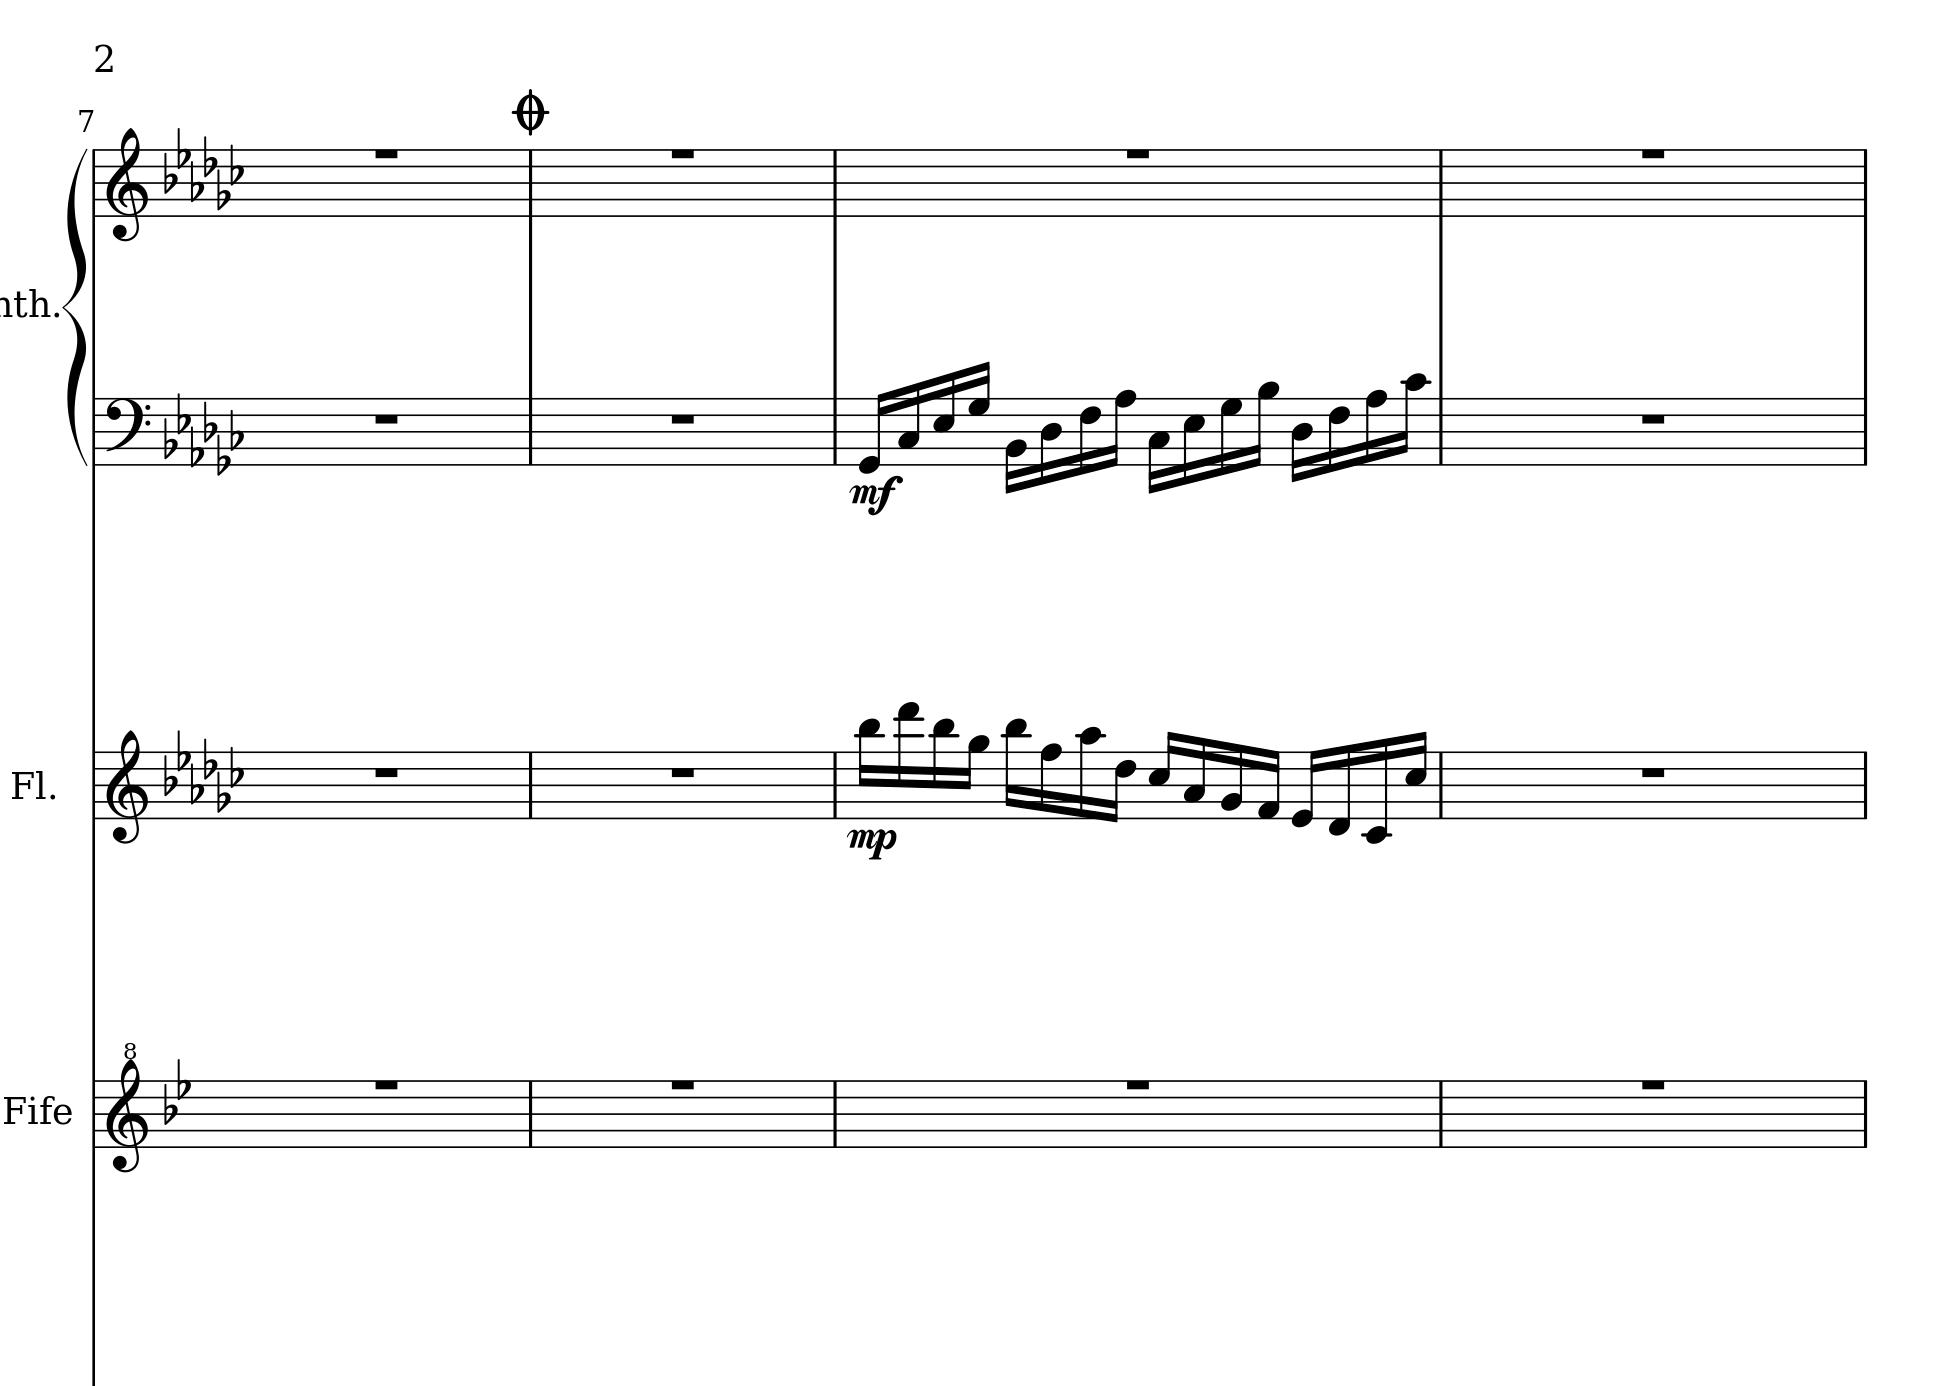16_-1: (1326, 742, 1353, 835)
16_-2: (1362, 735, 1392, 843)
16_0: (1288, 747, 1323, 829), (856, 388, 886, 472)
16_1: (1255, 745, 1281, 820)
16_10: (1396, 372, 1429, 468), (1077, 724, 1107, 822)
16_11: (928, 715, 957, 823), (1002, 715, 1030, 822), (855, 715, 882, 820)
16_13: (894, 700, 922, 820)
16_2: (1003, 394, 1029, 493), (1219, 739, 1245, 820)
16_3: (1182, 732, 1209, 820), (1146, 394, 1170, 493), (895, 379, 921, 466)
16_4: (1038, 394, 1063, 484), (1290, 394, 1314, 481)
16_5: (1147, 729, 1179, 820), (931, 367, 957, 466), (1404, 727, 1429, 820), (1180, 394, 1206, 486)
16_6: (1108, 748, 1138, 825), (1326, 394, 1351, 472), (1077, 394, 1101, 475)
16_7: (967, 360, 993, 466), (1218, 394, 1242, 477)
16_8: (1107, 388, 1137, 468), (1038, 741, 1063, 820), (1365, 387, 1389, 468)
16_9: (1249, 379, 1281, 468), (964, 733, 993, 820)
2: (91, 40, 115, 72)
7: (76, 105, 96, 133)
B_F: (162, 1056, 192, 1123)
Brace: (61, 145, 88, 466)
Coda: (510, 85, 550, 135)
Fclef: (103, 394, 151, 459)
Fl: (9, 766, 46, 804)
G_F: (163, 727, 244, 811), (163, 391, 244, 474), (163, 127, 244, 208)
Gclef: (103, 727, 154, 847), (103, 126, 151, 243)
High_Gclef: (103, 1039, 148, 1174)
Rests1: (1122, 142, 1155, 163), (370, 1074, 403, 1093), (1122, 1074, 1155, 1093), (1638, 1074, 1671, 1093), (1638, 144, 1669, 163), (370, 144, 402, 162), (667, 144, 699, 162), (370, 409, 402, 427), (1638, 409, 1669, 427), (370, 763, 402, 781), (667, 763, 699, 781), (1638, 763, 1669, 781), (667, 1075, 699, 1093), (667, 409, 697, 427)
Single_barline: (826, 397, 846, 465), (826, 148, 844, 216), (1432, 148, 1450, 216), (826, 1080, 844, 1147), (1857, 1078, 1873, 1147), (1857, 397, 1873, 465), (826, 751, 843, 819), (1857, 751, 1873, 819), (522, 148, 538, 214), (1857, 148, 1873, 214), (522, 397, 538, 463), (1434, 751, 1450, 817), (522, 751, 538, 817), (522, 1080, 538, 1146), (87, 748, 102, 817), (1434, 397, 1449, 463), (1434, 1080, 1449, 1146), (88, 396, 102, 463), (88, 148, 102, 214), (88, 1080, 100, 1147)
mf: (847, 475, 904, 517)
mp: (844, 823, 897, 864)
